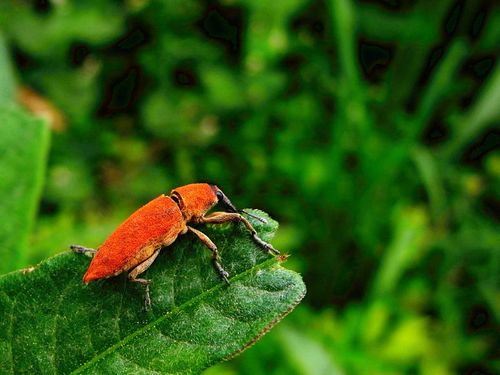Curculionidae: (69, 182, 282, 311)
